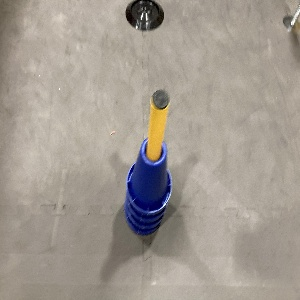Blue_4: (124, 136, 172, 233)
